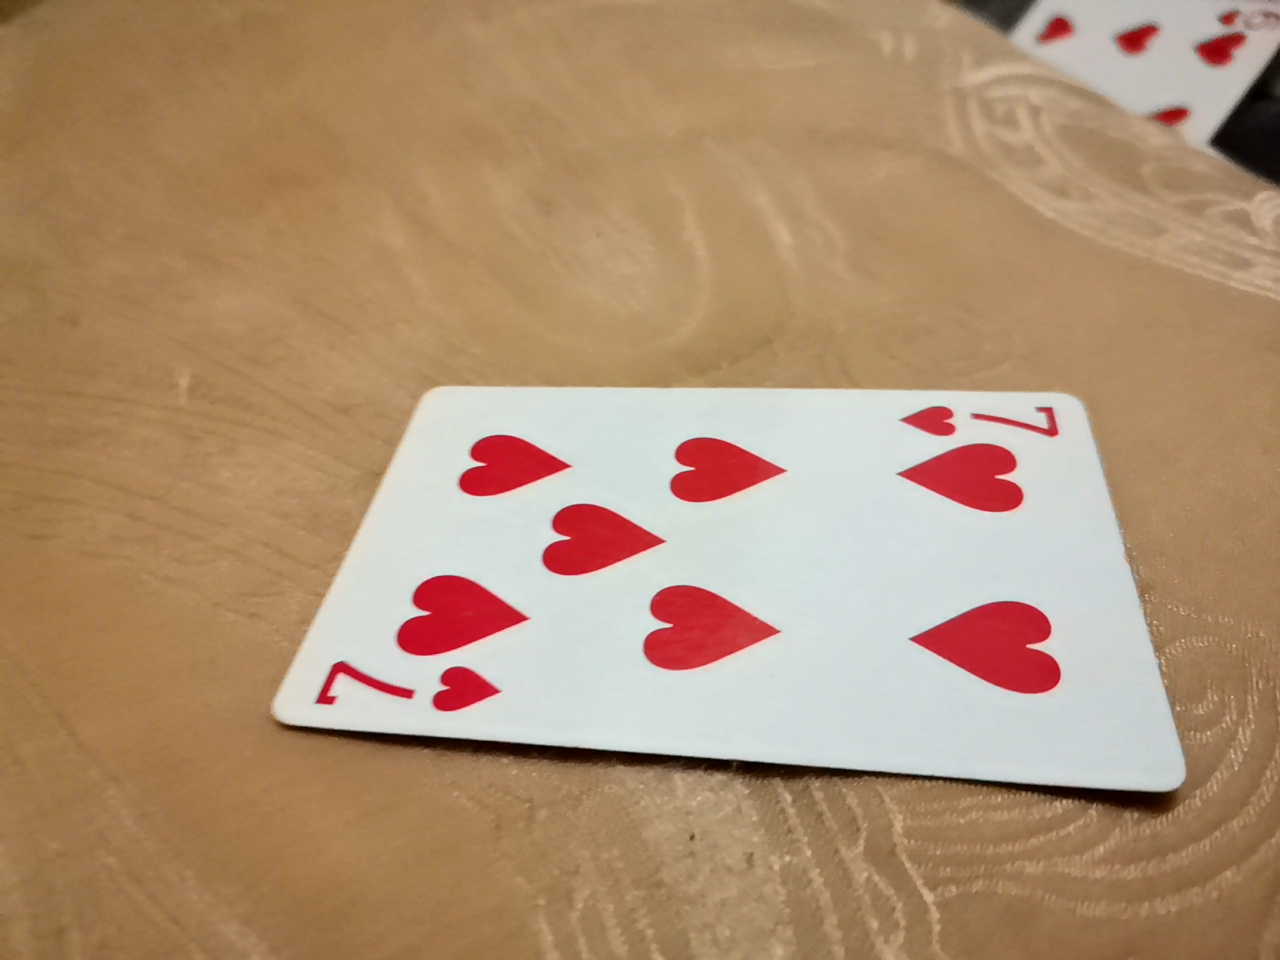hx 7: (265, 388, 1202, 799)
